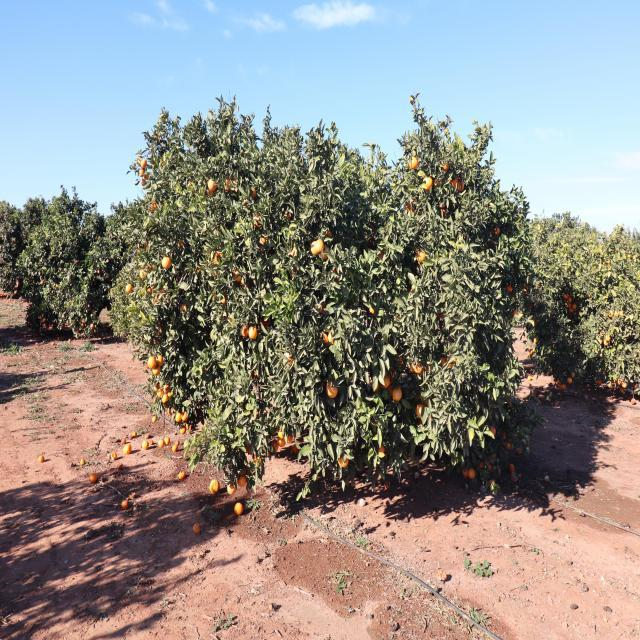Jeruk Sudah Matang: (336, 445, 354, 470), (280, 349, 298, 367), (324, 380, 340, 400), (317, 245, 332, 264), (310, 237, 324, 254), (415, 400, 428, 418), (162, 254, 176, 270), (250, 184, 264, 200), (381, 370, 392, 390), (244, 438, 256, 456), (422, 174, 434, 192), (394, 349, 406, 367), (423, 357, 435, 375), (408, 154, 421, 170), (370, 374, 381, 392), (326, 330, 340, 344), (374, 246, 388, 260), (239, 275, 252, 290), (378, 442, 388, 461), (252, 455, 266, 468), (210, 248, 220, 266), (286, 426, 296, 444), (248, 322, 258, 340), (252, 212, 262, 230), (414, 358, 424, 376), (289, 242, 300, 258), (154, 324, 166, 338), (260, 444, 272, 458), (281, 207, 292, 222), (458, 176, 467, 194), (160, 286, 170, 302), (224, 312, 234, 328), (276, 424, 286, 440), (416, 244, 424, 264), (392, 386, 402, 402), (322, 227, 334, 240), (440, 158, 452, 171), (438, 205, 450, 218), (224, 175, 233, 192), (146, 354, 156, 369), (232, 267, 242, 282), (150, 365, 162, 377), (270, 438, 279, 454), (414, 419, 425, 432), (154, 292, 164, 306), (181, 408, 191, 422), (292, 443, 302, 457), (239, 323, 249, 337), (288, 266, 298, 280), (207, 177, 217, 191), (368, 304, 378, 318), (492, 224, 502, 238), (181, 303, 191, 316), (155, 386, 165, 399), (316, 300, 326, 313), (439, 354, 447, 370), (125, 280, 134, 294), (488, 424, 497, 438), (138, 268, 148, 280), (221, 294, 231, 306), (212, 266, 222, 278), (220, 250, 230, 262), (162, 382, 172, 394), (178, 424, 188, 436), (416, 168, 426, 180), (450, 176, 460, 188), (466, 467, 476, 479), (462, 462, 469, 479), (141, 329, 150, 342), (171, 400, 180, 413), (388, 385, 397, 398), (507, 283, 516, 296), (156, 353, 164, 367), (196, 262, 204, 276), (322, 330, 329, 346), (262, 316, 270, 330), (404, 200, 412, 214), (278, 438, 288, 449), (242, 198, 252, 209), (409, 356, 415, 374), (174, 411, 182, 424), (160, 394, 170, 404), (388, 368, 398, 378), (166, 404, 173, 418), (412, 204, 419, 218), (210, 290, 218, 302), (205, 187, 213, 199), (185, 418, 194, 428), (488, 453, 497, 463), (138, 166, 146, 177), (446, 358, 453, 370), (140, 160, 149, 169), (145, 285, 153, 295), (150, 259, 158, 269), (152, 382, 160, 392), (437, 174, 445, 184), (486, 461, 494, 471), (486, 478, 496, 486), (509, 463, 517, 473), (396, 311, 404, 321), (529, 316, 537, 326), (632, 380, 640, 390), (152, 200, 158, 212), (144, 240, 152, 249), (146, 263, 154, 272), (264, 234, 273, 242), (452, 352, 458, 364), (514, 308, 520, 320), (136, 154, 143, 164), (259, 236, 266, 246), (160, 156, 167, 166), (412, 196, 419, 206), (477, 457, 484, 467), (605, 332, 612, 342), (433, 175, 438, 188), (144, 172, 152, 180), (200, 366, 208, 374), (516, 446, 524, 454), (566, 376, 574, 384), (554, 377, 562, 385), (559, 383, 567, 391), (410, 283, 417, 292), (186, 426, 192, 436), (578, 308, 584, 318), (618, 307, 624, 317), (81, 316, 88, 324), (167, 391, 174, 399), (630, 398, 637, 406), (621, 381, 629, 388), (599, 328, 606, 336), (597, 338, 604, 346), (608, 310, 615, 318), (617, 376, 622, 387), (136, 244, 142, 253), (154, 339, 160, 348), (588, 290, 594, 299), (601, 366, 607, 375), (90, 320, 95, 330), (141, 178, 146, 188), (611, 376, 616, 386), (627, 250, 632, 260), (602, 310, 609, 317), (508, 442, 514, 450), (528, 348, 534, 356), (562, 292, 570, 298), (572, 302, 578, 310), (599, 351, 605, 359), (604, 338, 610, 346), (612, 247, 618, 255), (597, 378, 603, 385), (614, 310, 620, 317), (94, 234, 99, 242), (533, 336, 538, 344), (569, 307, 574, 315), (608, 380, 612, 390), (92, 308, 98, 314), (39, 278, 45, 284), (162, 402, 168, 408), (524, 288, 530, 294), (566, 302, 572, 308), (80, 322, 84, 330), (62, 266, 66, 274), (502, 432, 506, 440), (528, 373, 532, 381), (568, 296, 572, 304), (630, 310, 634, 318), (54, 290, 59, 296), (26, 320, 31, 326), (74, 258, 79, 264), (105, 274, 110, 280), (522, 280, 528, 285), (620, 388, 625, 394), (548, 311, 553, 317), (538, 280, 542, 287), (528, 304, 532, 311), (572, 371, 576, 378), (606, 260, 611, 265), (86, 305, 90, 311), (90, 278, 94, 284), (528, 272, 532, 278), (602, 260, 606, 266), (588, 251, 592, 257), (56, 282, 60, 287), (27, 312, 32, 316), (68, 274, 72, 279), (96, 268, 100, 272), (522, 287, 526, 291), (564, 298, 568, 302), (40, 313, 42, 319), (40, 321, 44, 324), (44, 317, 46, 322)
